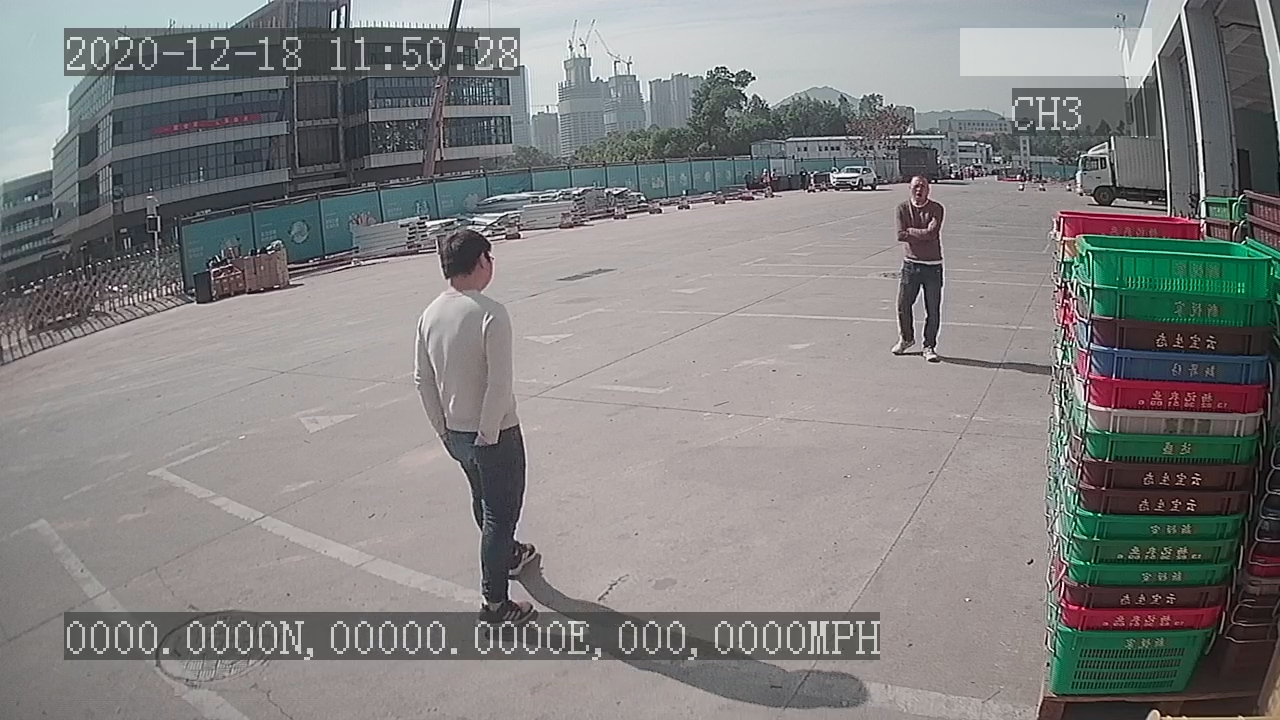person: (883, 172, 951, 365)
